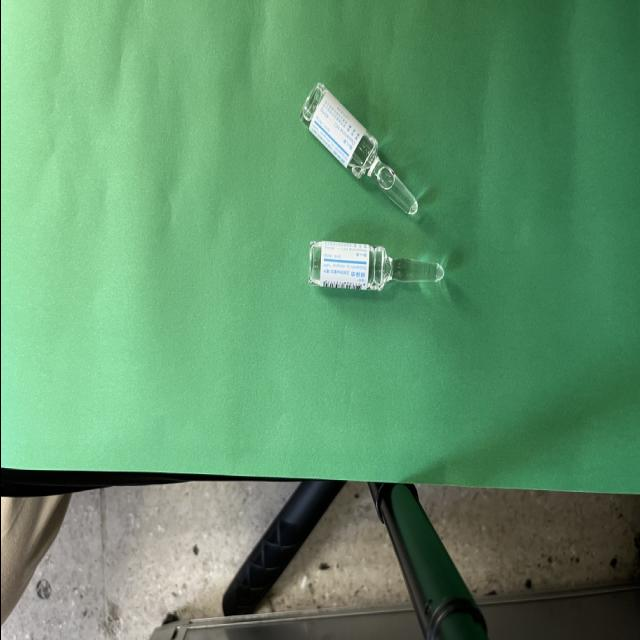Ampoules: (299, 83, 418, 215), (308, 241, 444, 291)
